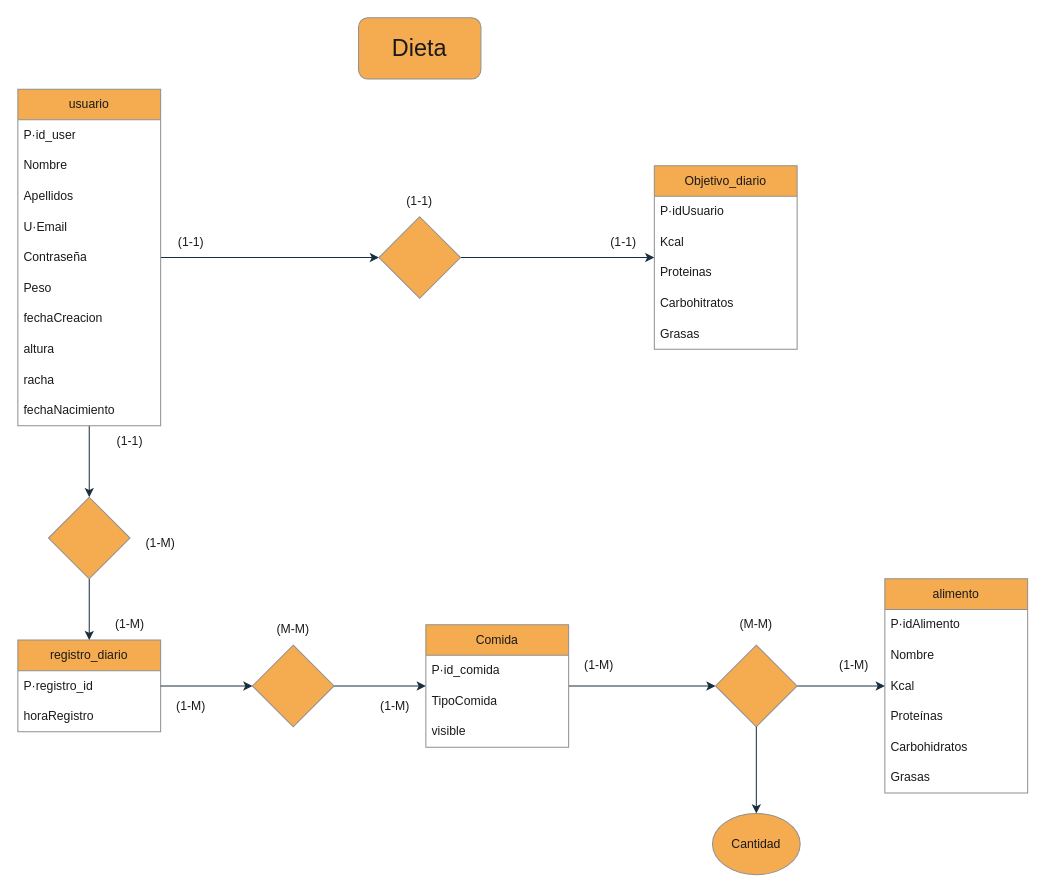
The diagram is 1046 pixels wide and 893 high, and some of its shapes have lost their labels. Here are the shapes that lost their labels. From the top down, the centre of each, then its label:
At point 419,257: "Tiene".
At point 88,537: "Genera".
At point 292,685: "Contiene".
At point 756,685: "se compone".
